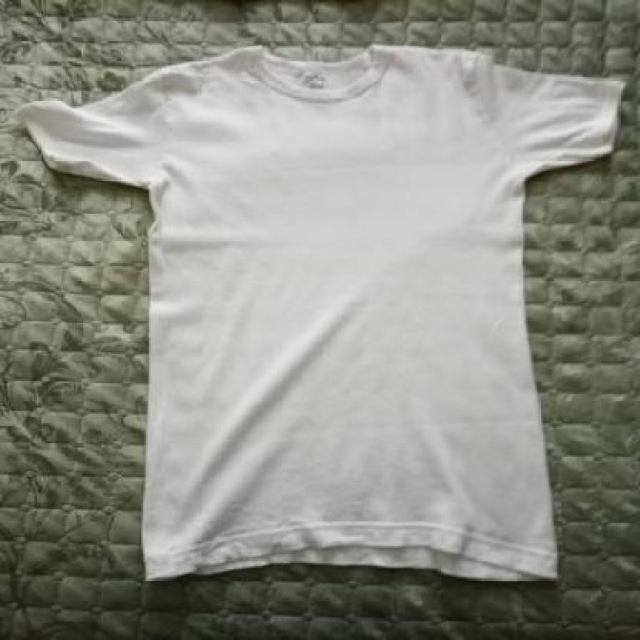shirt: (20, 45, 638, 587)
